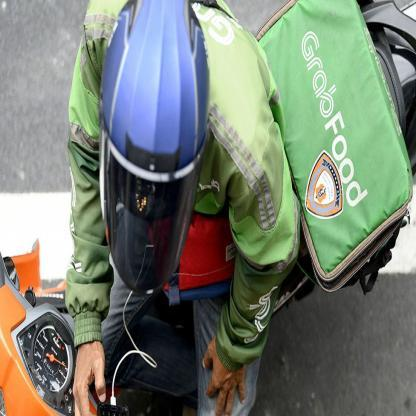helmet: (99, 0, 211, 295)
